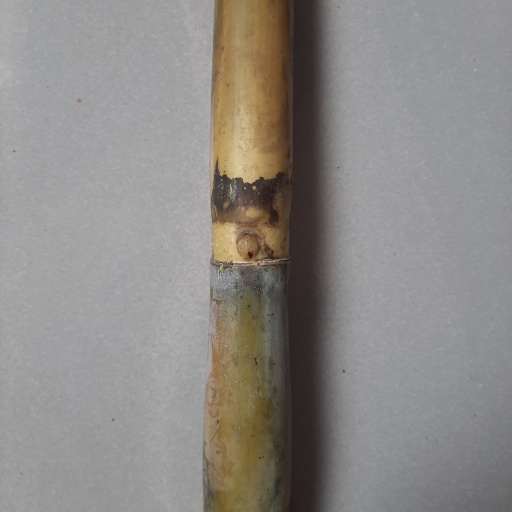Bud: (236, 230, 263, 262)
